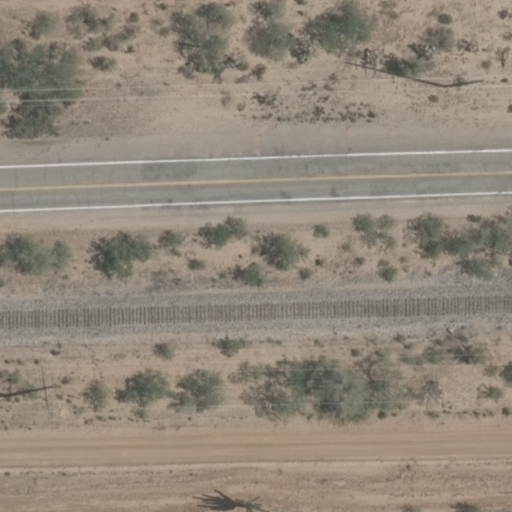DT: (15, 372, 60, 402), (444, 76, 487, 92)
